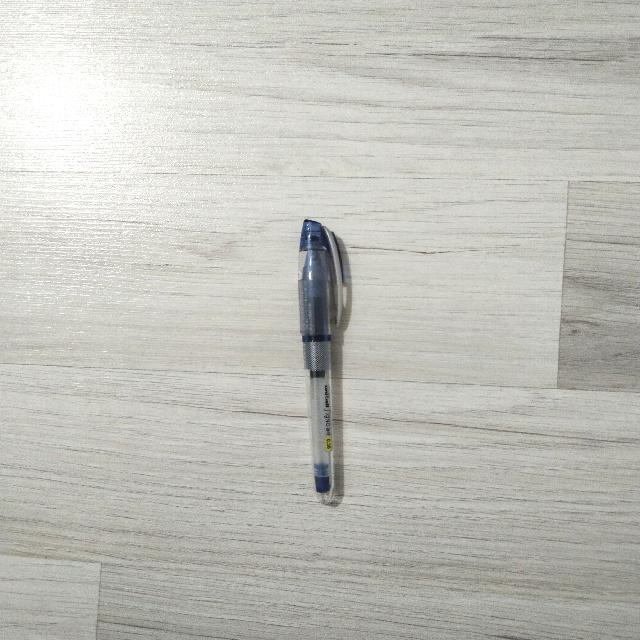pen: (299, 219, 342, 503)
